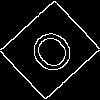O: (25, 25, 86, 86)
